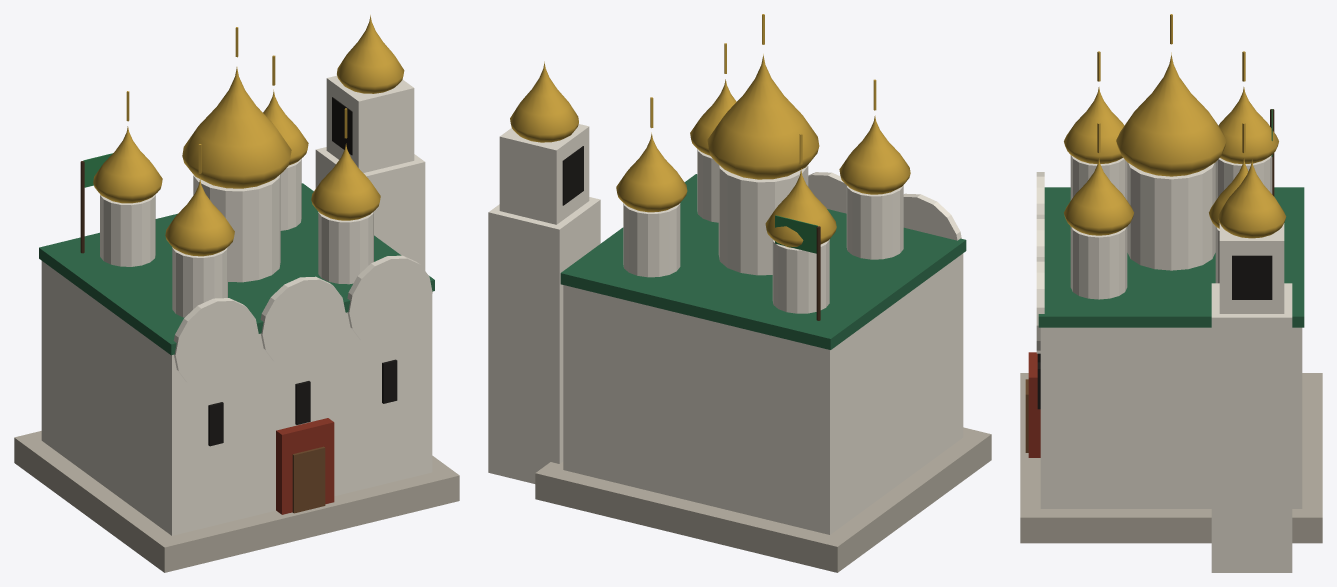
Rendered from keep.glb.
3 renders of one model, left to right at view 1: azimuth 30°, elevation 25°; view 2: azimuth 150°, elevation 25°; view 3: azimuth 270°, elevation 25°, orthographic. The views are drawn at different scales.
Visible parts, largest first — view 1: Keep; view 2: Keep; view 3: Keep.
Boxes of the visible parts, x1,y1,x2,y2 form: Keep: (14, 15, 459, 572); Keep: (488, 14, 991, 572); Keep: (1020, 14, 1322, 572).
Bounding box in the file's own units: 20.5 × 25 × 15.
